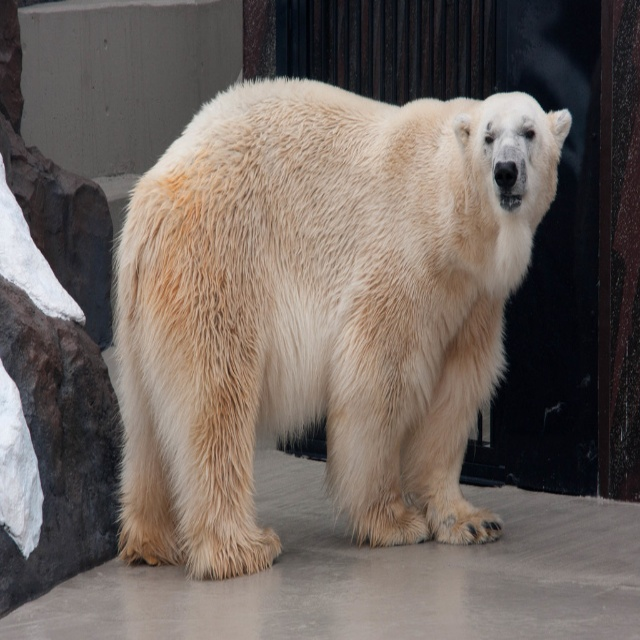Polar bear: (113, 71, 574, 586)
